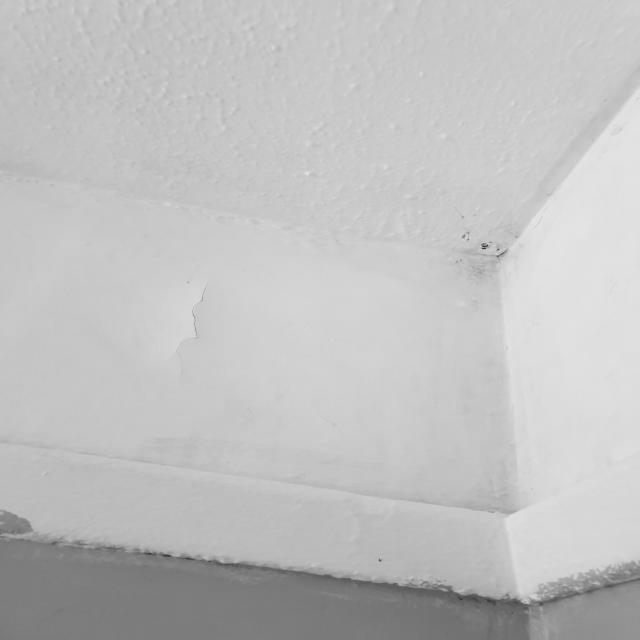stain marks: (81, 408, 556, 530), (433, 212, 531, 290)
